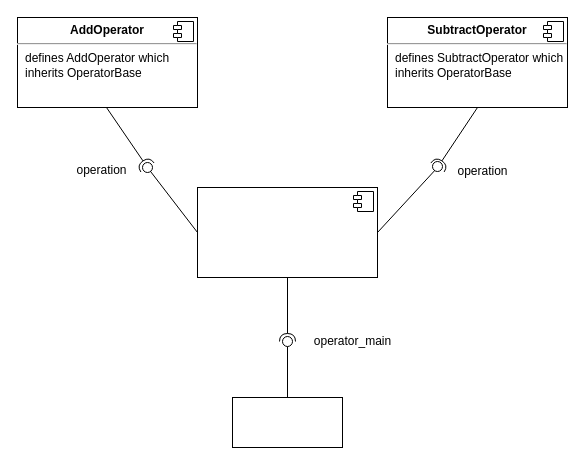
Some shapes in this 585 by 465 pixel diagram are drawn without their labels. The centre of each missing label's shape, as x and y in pixels:
"Client Terminal" goes at point 287,422.
"Core defines OperatorBase abstract class/interface" goes at point 287,232.
